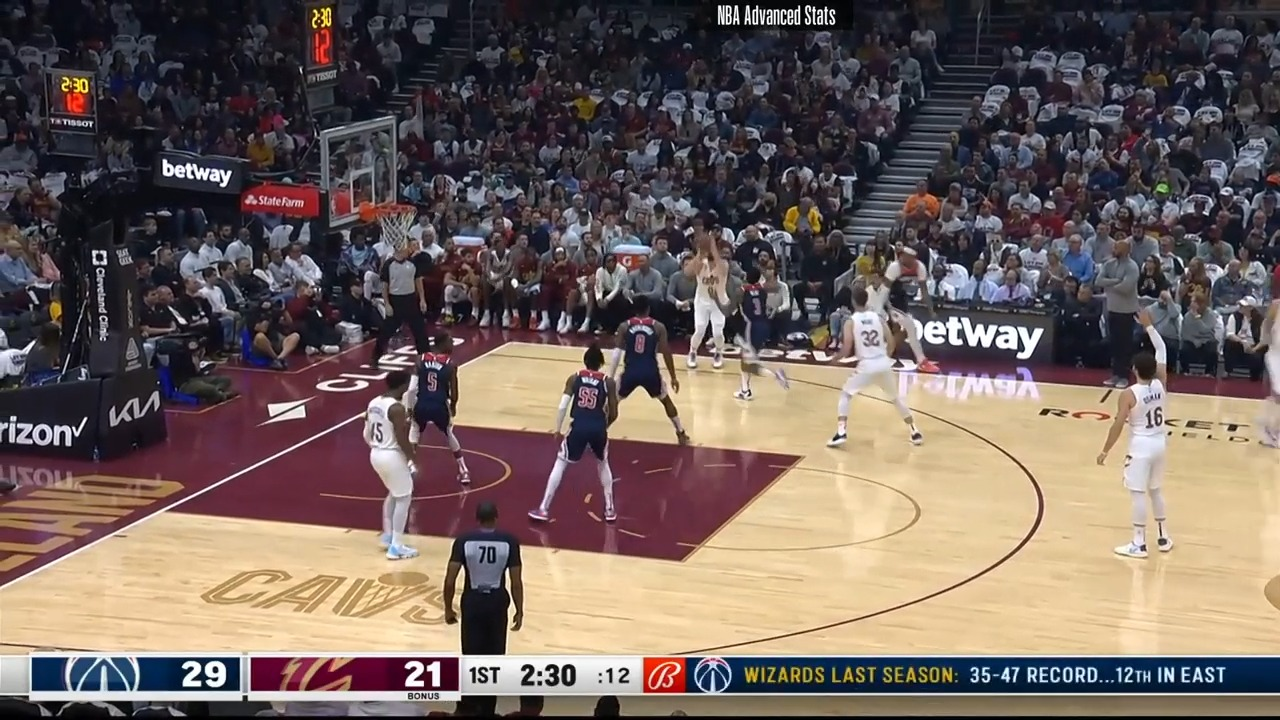net: (361, 198, 423, 249)
player: (1096, 306, 1176, 563), (534, 336, 626, 531), (827, 283, 931, 451), (610, 292, 700, 449), (364, 364, 430, 568), (705, 253, 793, 402), (401, 329, 470, 489), (863, 242, 933, 378), (683, 237, 732, 373), (1245, 282, 1280, 453)
referee: (436, 496, 525, 656), (376, 242, 435, 372)
